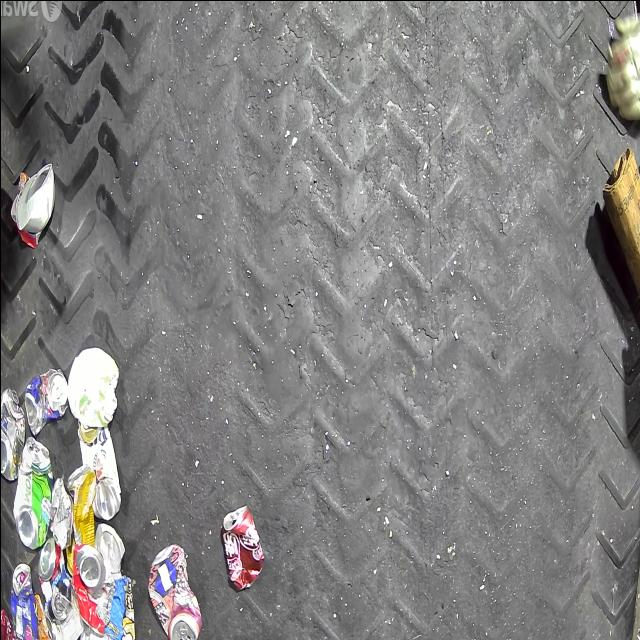can: (148, 542, 202, 640), (12, 436, 52, 550), (77, 420, 121, 520), (220, 504, 264, 592), (72, 542, 114, 634), (66, 463, 96, 576), (24, 367, 67, 435), (0, 387, 25, 480), (9, 562, 37, 640), (37, 536, 66, 601), (94, 522, 124, 578), (46, 580, 72, 622), (0, 607, 25, 640), (76, 629, 128, 640)
